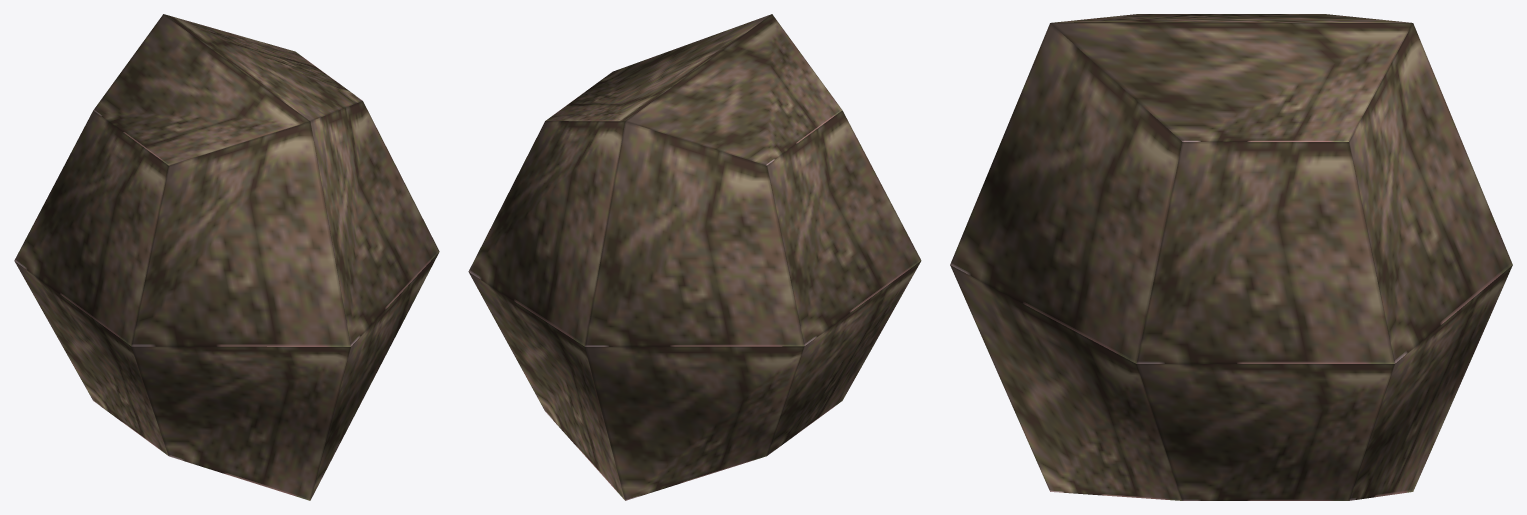
The picture shows the model from 3 angles, left to right: view 1: azimuth 30°, elevation 25°; view 2: azimuth 150°, elevation 25°; view 3: azimuth 270°, elevation 25°; orthographic projection. The views are drawn at different scales.
Visible parts, largest first — view 1: T1L8M005_22; view 2: T1L8M005_22; view 3: T1L8M005_22.
Part boxes in pixels (left/top/right/bottom): T1L8M005_22: left=14, top=14, right=439, bottom=500; T1L8M005_22: left=468, top=14, right=921, bottom=500; T1L8M005_22: left=950, top=14, right=1512, bottom=500.
Bounding box in the file's own units: 1.24 × 1.37 × 1.49.
